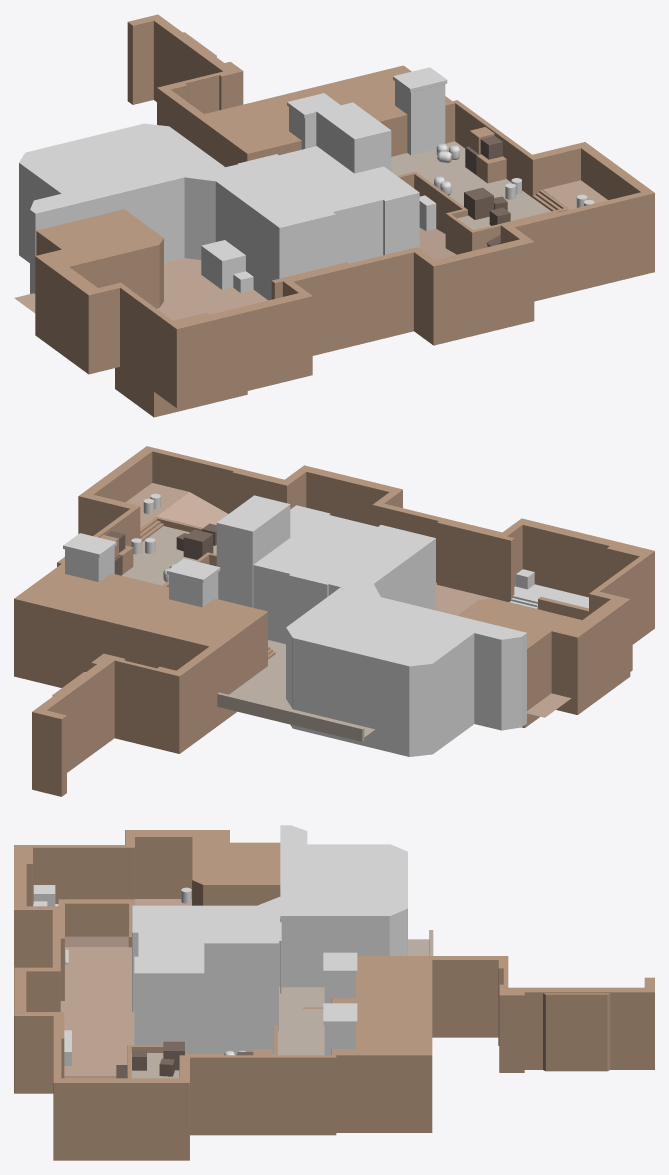
Rendered from DUST2_v0.0.1_alpha.fbx.
3 renders of one model, top to bottom at view 1: azimuth 30°, elevation 25°; view 2: azimuth 150°, elevation 25°; view 3: azimuth 270°, elevation 25°, orthographic. The views are drawn at different scales.
Visible parts, largest first — view 1: Cube.018, Cube.011, Cube.019, Cube.026, Cube.001, Cube.024, Cube.022, Cube.025, Cube.002, Cube.006; view 2: Cube.018, Cube.011, Cube.026, Cube.001, Cube.019, Cube.032, Cube.025, Cube.024, Cube.020, Cube.002; view 3: Cube.018, Cube.011, Cube.019, Cube.026, Cube.031, Cube.001, Cube.025, Cube.024.
Part boxes in pixels (x1=…): Cube.018: x1=35, y1=14, x2=654, y2=417; Cube.011: x1=19, y1=123, x2=419, y2=300; Cube.019: x1=14, y1=180, x2=607, y2=320; Cube.026: x1=316, y1=102, x2=391, y2=173; Cube.001: x1=391, y1=141, x2=550, y2=230; Cube.024: x1=393, y1=67, x2=447, y2=155; Cube.022: x1=201, y1=240, x2=245, y2=289; Cube.025: x1=287, y1=93, x2=340, y2=149; Cube.002: x1=464, y1=187, x2=493, y2=219; Cube.006: x1=476, y1=154, x2=506, y2=183; Cube.018: x1=14, y1=446, x2=654, y2=796; Cube.011: x1=253, y1=505, x2=526, y2=756; Cube.026: x1=216, y1=495, x2=290, y2=607; Cube.001: x1=122, y1=526, x2=374, y2=737; Cube.019: x1=125, y1=483, x2=571, y2=717; Cube.032: x1=217, y1=692, x2=364, y2=741; Cube.025: x1=167, y1=558, x2=220, y2=607; Cube.024: x1=63, y1=533, x2=116, y2=581; Cube.020: x1=514, y1=584, x2=588, y2=608; Cube.002: x1=183, y1=529, x2=213, y2=559; Cube.018: x1=14, y1=830, x2=654, y2=1160; Cube.011: x1=132, y1=825, x2=407, y2=1053; Cube.019: x1=60, y1=899, x2=191, y2=1078; Cube.026: x1=204, y1=925, x2=278, y2=1053; Cube.031: x1=543, y1=993, x2=610, y2=1071; Cube.001: x1=131, y1=939, x2=429, y2=1078; Cube.025: x1=323, y1=952, x2=357, y2=1003; Cube.024: x1=323, y1=1003, x2=357, y2=1055.
Bounding box in the file's own units: 5537 × 1567 × 5923.
